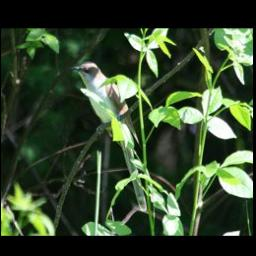Cuckoo: (69, 61, 148, 211)
